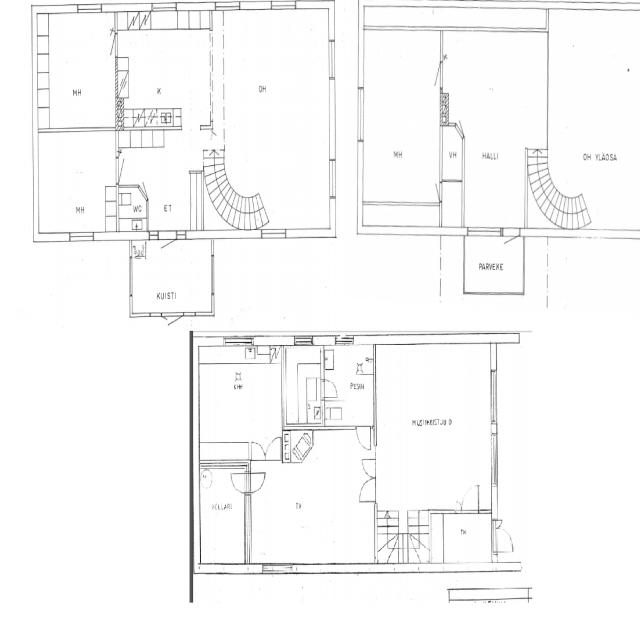door: (159, 231, 177, 269), (502, 228, 520, 266), (462, 481, 479, 513), (115, 157, 134, 183), (492, 528, 512, 552), (266, 434, 282, 464), (424, 62, 443, 87), (168, 314, 184, 341), (100, 33, 118, 56), (359, 478, 376, 502), (244, 474, 264, 494), (139, 174, 155, 199), (456, 113, 472, 138), (357, 426, 371, 454), (232, 474, 251, 494), (252, 438, 265, 464), (321, 379, 336, 398), (362, 459, 377, 478), (428, 183, 442, 201), (492, 520, 503, 529), (162, 314, 168, 328), (457, 502, 462, 513)
